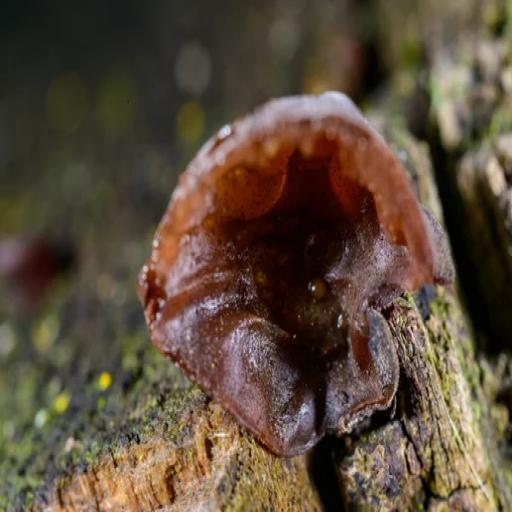Wood Ear Mushroom: (131, 80, 445, 464)
